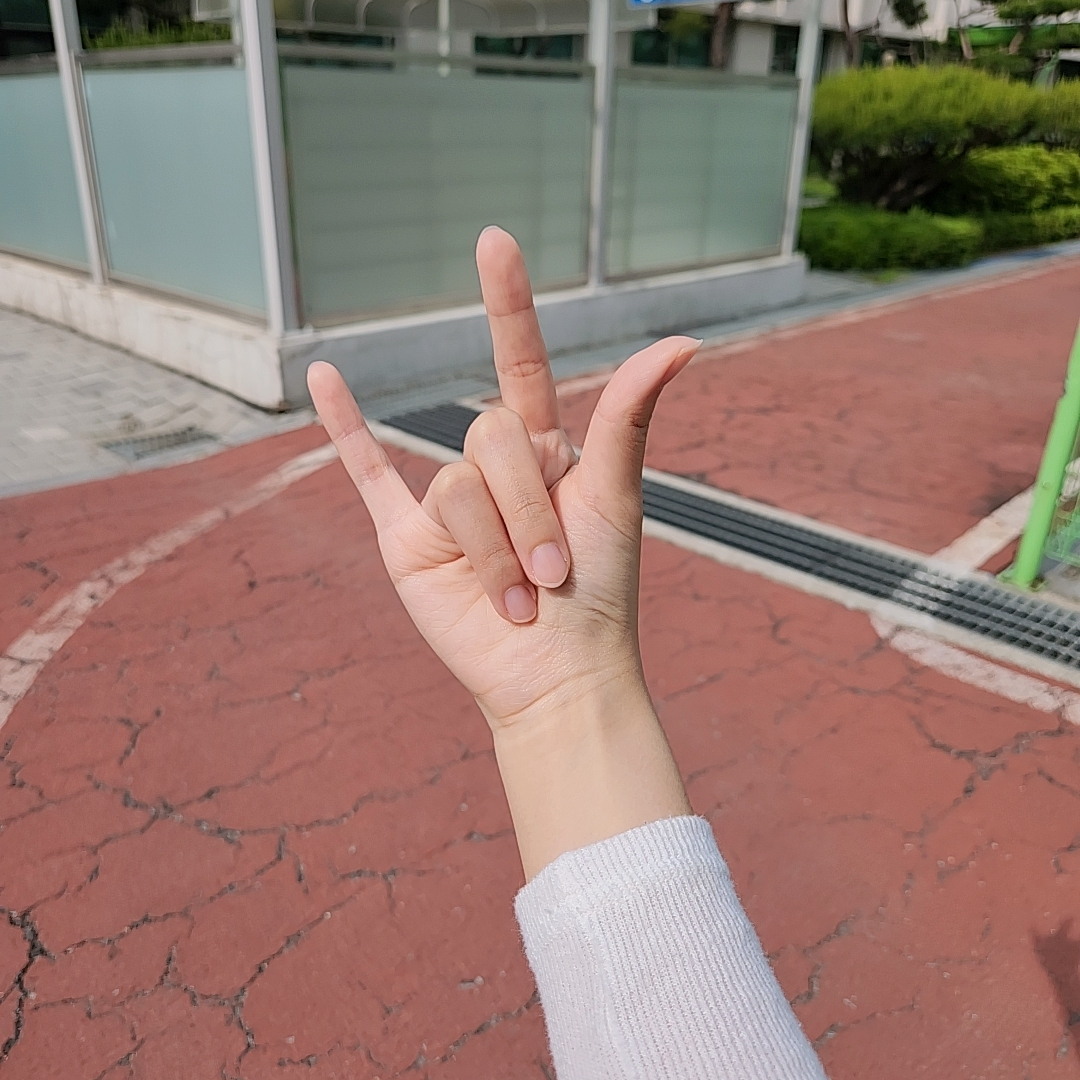iloveyou: (306, 225, 700, 699)
